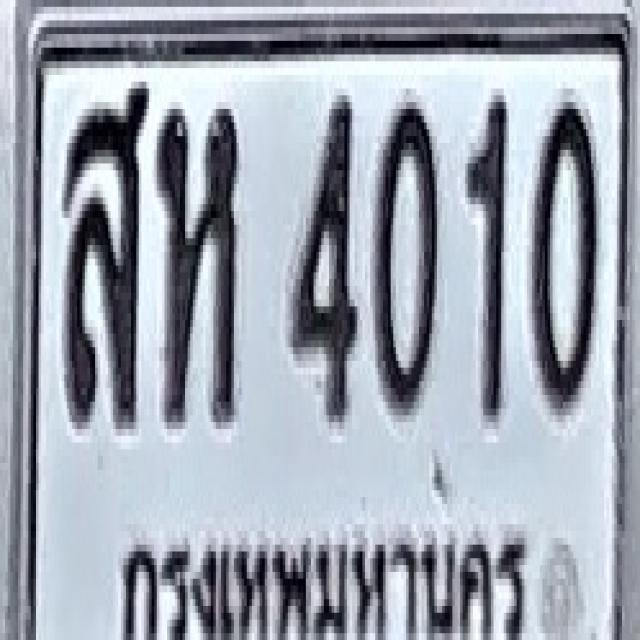0: (530, 96, 596, 416), (373, 96, 437, 416)
1: (466, 92, 506, 419)
4: (290, 89, 358, 422)
A40: (63, 78, 148, 426)
A41: (156, 106, 238, 426)
BKK: (106, 506, 538, 640)
